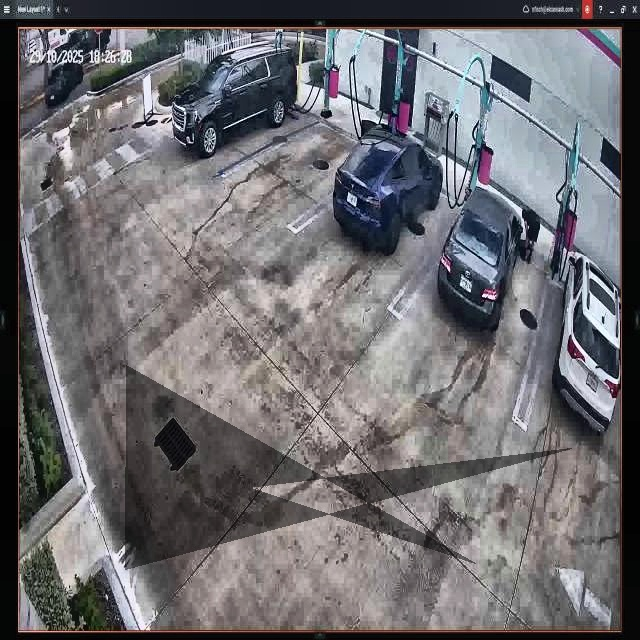Car: (334, 124, 442, 250), (440, 185, 522, 330)
